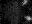person: (23, 1, 28, 7), (27, 16, 31, 19)
